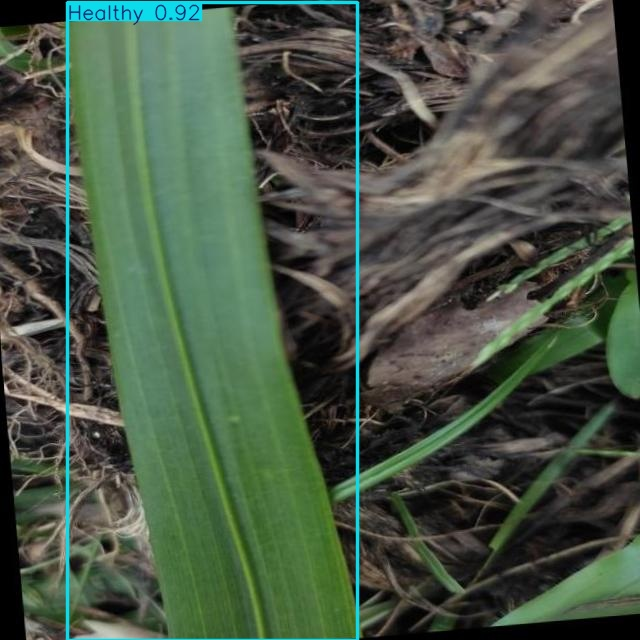Healthy: (67, 2, 358, 640)
